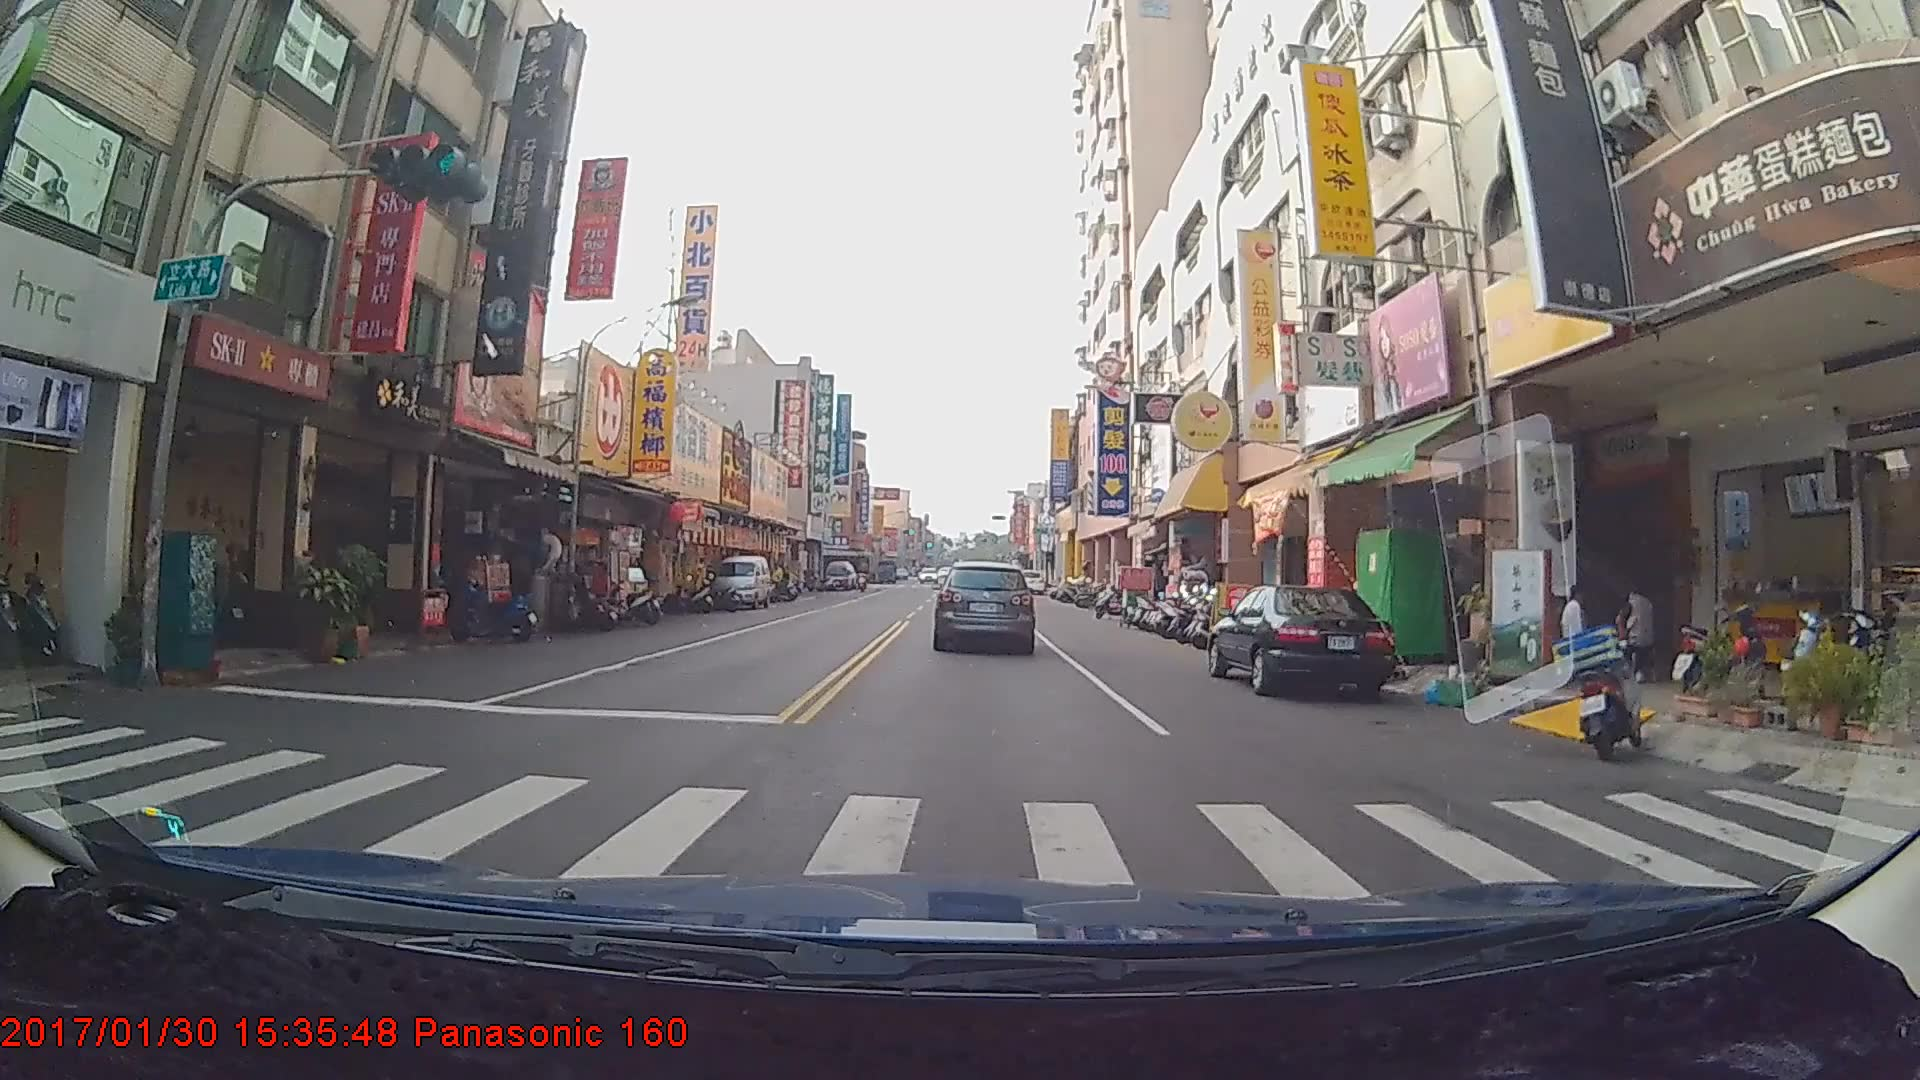pedestrian: (1615, 579, 1659, 683), (1557, 579, 1600, 680)
vehicle: (1209, 582, 1392, 695), (932, 559, 1035, 652), (713, 554, 771, 610), (823, 558, 857, 591), (1013, 577, 1043, 603)
